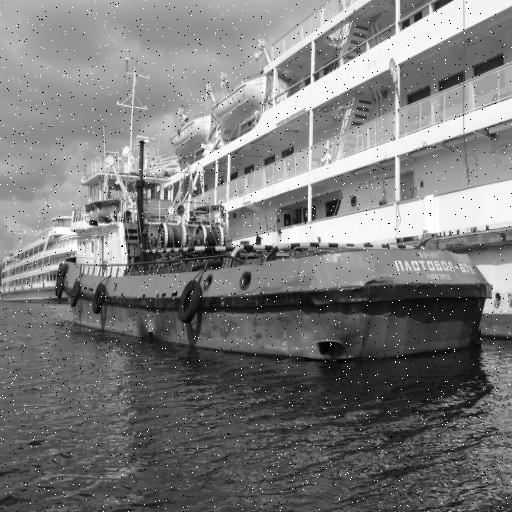tugboat: (56, 136, 497, 376)
